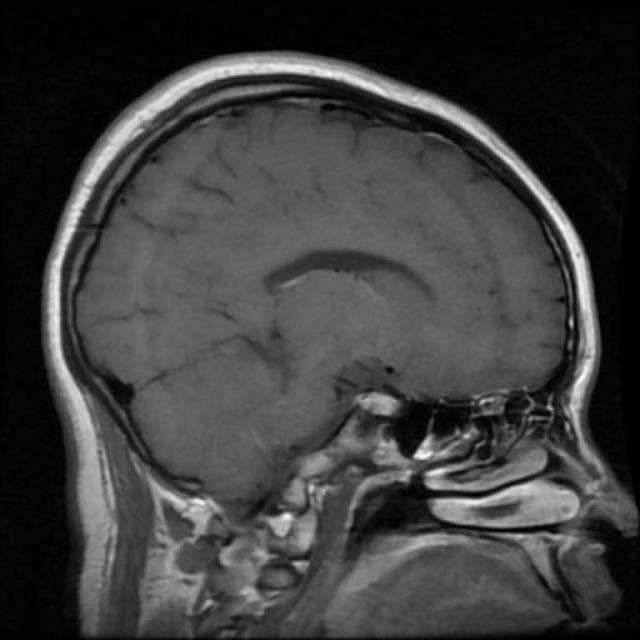pituitary: (334, 372, 409, 468)
